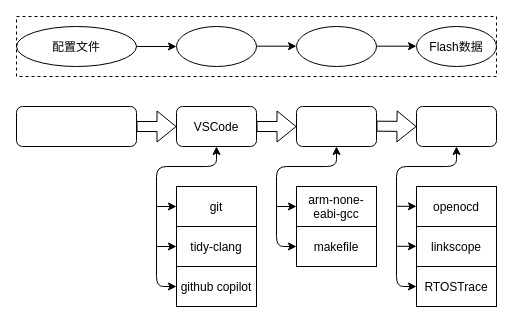
The diagram is 513 pixels wide and 323 high, and some of its shapes have lost their labels. Here are the shapes that lost their labels. From the top down, the box of each, then its label:
(176, 26, 256, 66): 源代码
(296, 26, 376, 66): ELF文件
(16, 106, 136, 146): CubeMX代码生成器
(296, 106, 376, 146): CMAKE
(416, 106, 496, 146): GDB
